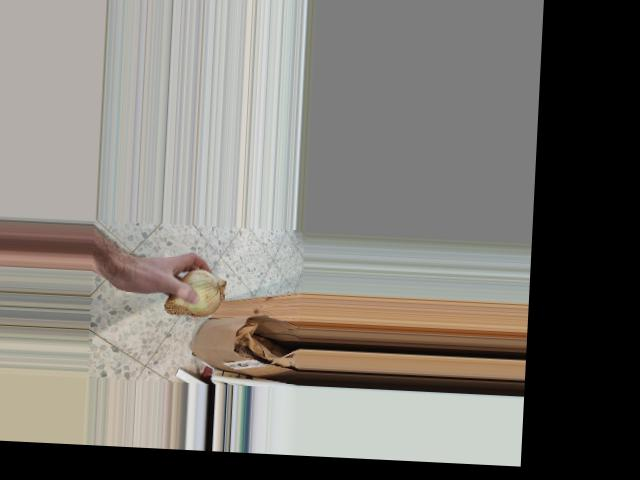onion: (161, 262, 227, 321)
